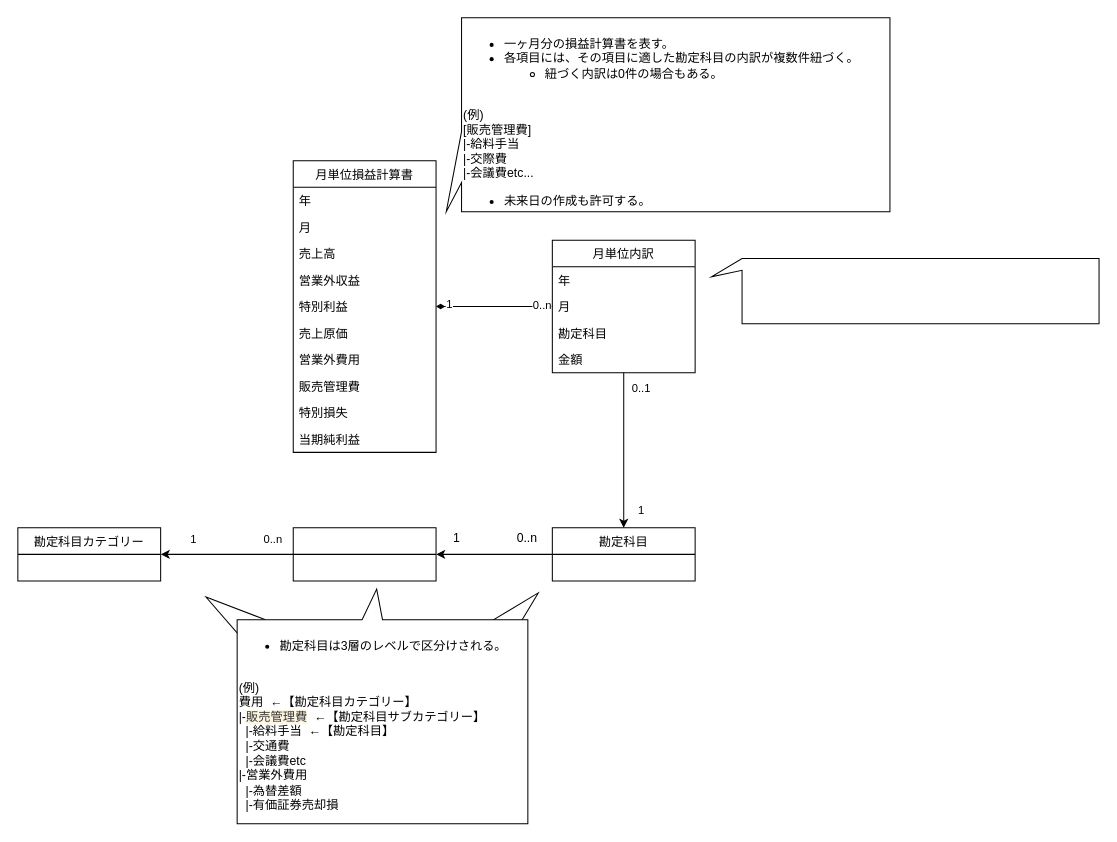
This 1117x842 diagram has some shape labels left out. Here are the shapes that lost their labels. From the top down, the centre of each, then its label:
the point at 904,291: 勘定科目別の月単位での金額を表す。 当月以降は作成を許可しない。 当月が2月の場合、1月以前のみ作成可能
the point at 364,554: 勘定科目サブカテゴリー
